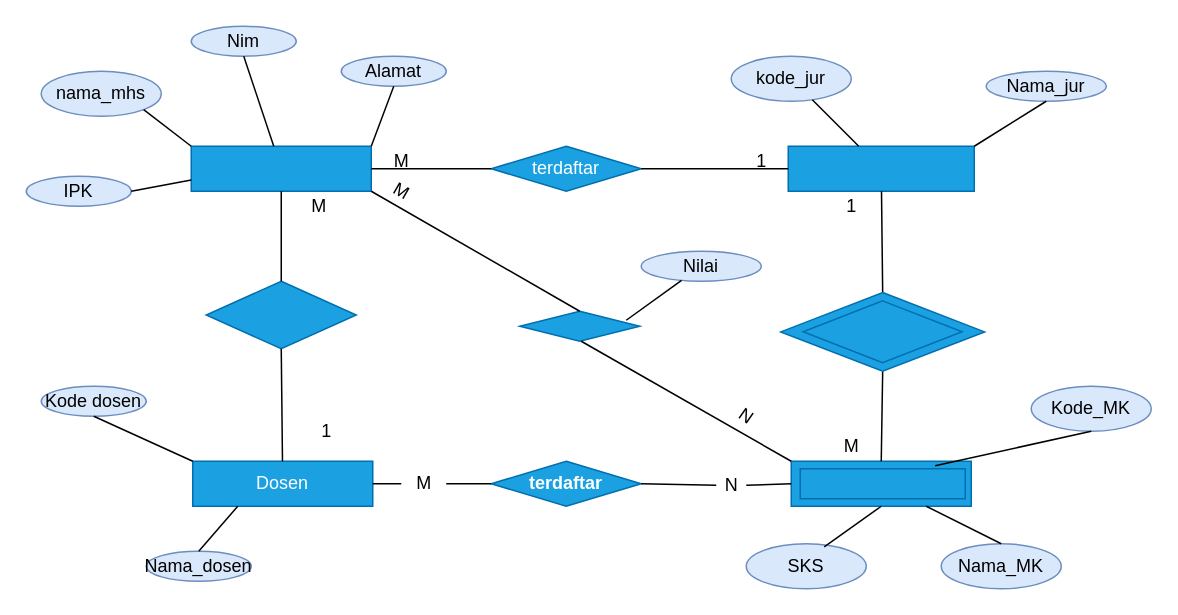
Some shapes in this 1178 by 615 pixel diagram are drawn without their labels. The shapes that lost their labels are listed below. From the top down, each one's centre as x and y in pixels, then its label:
the point at 280,168: MAhasiswa
the point at 880,168: jurusan
the point at 280,314: bimbingan
the point at 579,325: ambil
the point at 882,331: Menawarkan
the point at 882,483: Mata Kuliah
